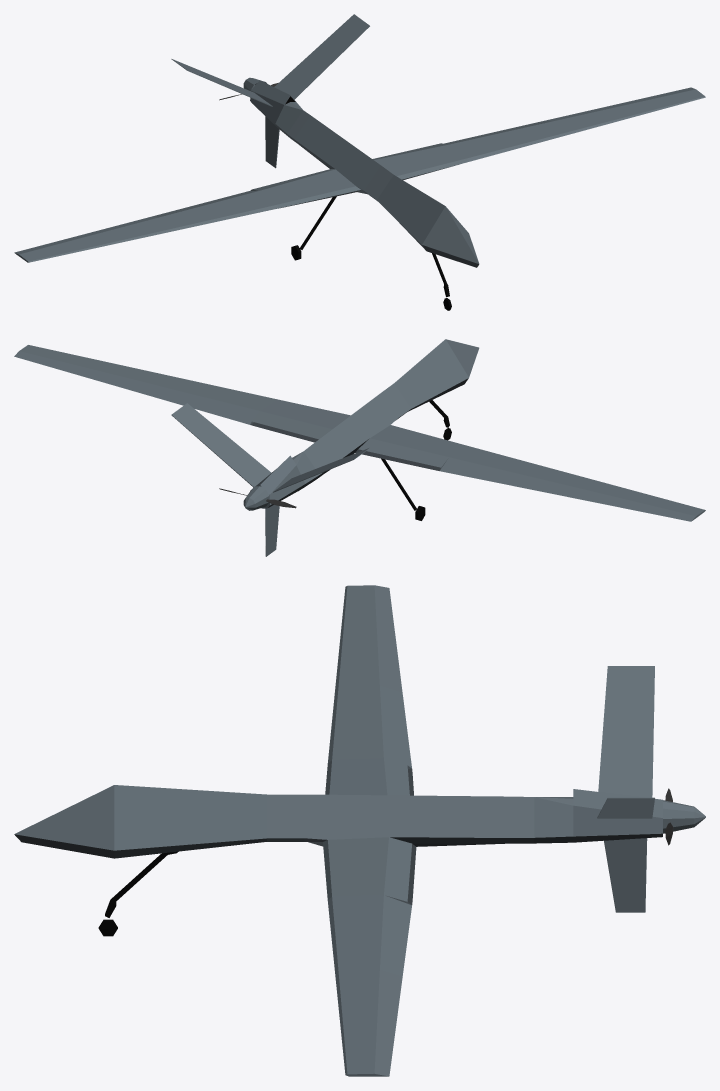
3 renders of one model, top to bottom at view 1: azimuth 30°, elevation 25°; view 2: azimuth 150°, elevation 25°; view 3: azimuth 270°, elevation 25°, orthographic. The views are drawn at different scales.
Visible parts, largest first — view 1: Circle.032, Circle.034, Circle.038; view 2: Circle.032, Circle.035, Circle.039, Circle.034, Circle.038, Circle.033, Landing gear_RL.009; view 3: Circle.032, Circle.038, Circle.039, Circle.034, Circle.035, Circle.033, Landing gear_F.004.
Boxes of the visible parts, x1=… form: Circle.032: x1=17, y1=14, x2=705, y2=267; Circle.034: x1=14, y1=216, x2=158, y2=254; Circle.038: x1=546, y1=87, x2=695, y2=121; Circle.032: x1=19, y1=339, x2=705, y2=556; Circle.035: x1=440, y1=457, x2=551, y2=492; Circle.039: x1=151, y1=386, x2=259, y2=424; Circle.034: x1=545, y1=482, x2=695, y2=521; Circle.038: x1=14, y1=351, x2=158, y2=396; Circle.033: x1=219, y1=486, x2=296, y2=510; Landing gear_RL.009: x1=381, y1=458, x2=425, y2=520; Circle.032: x1=14, y1=585, x2=662, y2=1076; Circle.038: x1=374, y1=970, x2=402, y2=1076; Circle.039: x1=380, y1=895, x2=411, y2=976; Circle.034: x1=374, y1=585, x2=402, y2=692; Circle.035: x1=380, y1=686, x2=411, y2=768; Circle.033: x1=663, y1=788, x2=705, y2=845; Landing gear_F.004: x1=98, y1=851, x2=178, y2=936.
Bounding box in the file's own units: 1428 × 279 × 855.
